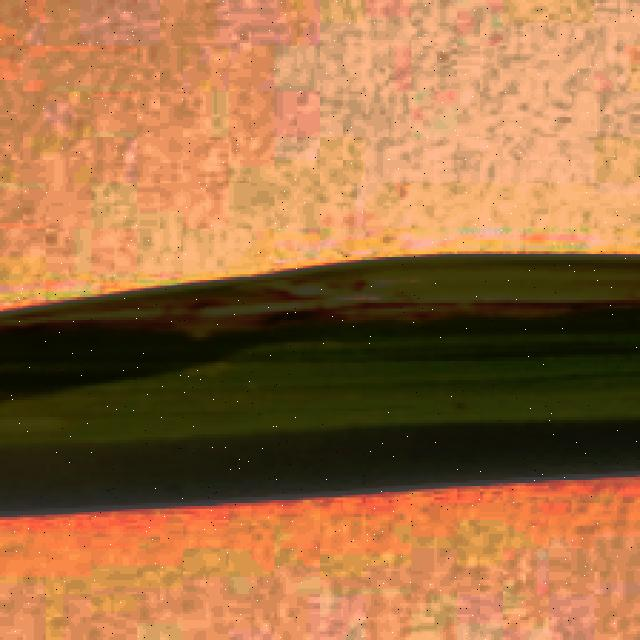unhealth: (0, 248, 640, 441)
